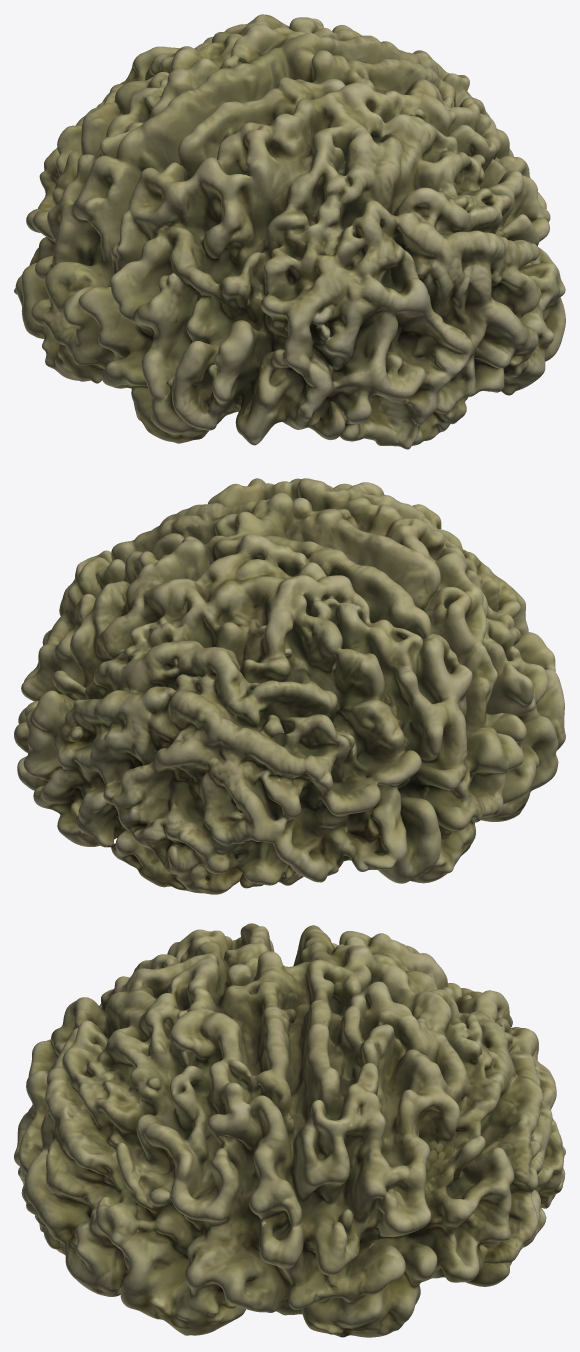
File: coral_brain.glb
3 views of the same model, one above another, from view 1: azimuth 30°, elevation 25°; view 2: azimuth 150°, elevation 25°; view 3: azimuth 270°, elevation 25° (orthographic). The views are drawn at different scales.
Parts seen in each view (by area): view 1: tripo_node_5cf2469b-5acd-4107-885e-8fee94ce5a00; view 2: tripo_node_5cf2469b-5acd-4107-885e-8fee94ce5a00; view 3: tripo_node_5cf2469b-5acd-4107-885e-8fee94ce5a00.
Boxes of the visible parts, bbox=[...] form: tripo_node_5cf2469b-5acd-4107-885e-8fee94ce5a00: bbox=[14, 14, 565, 449]; tripo_node_5cf2469b-5acd-4107-885e-8fee94ce5a00: bbox=[14, 478, 565, 894]; tripo_node_5cf2469b-5acd-4107-885e-8fee94ce5a00: bbox=[14, 923, 565, 1337].
Bounding box in the file's own units: 0.951 × 0.6928 × 0.9999.
1 material, 1 textured.
